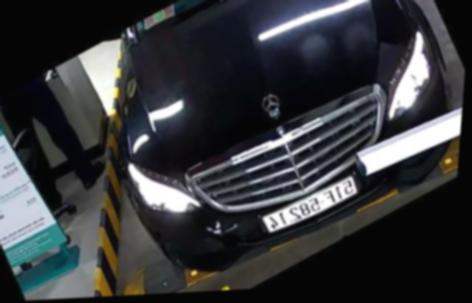License_Plate: (261, 169, 367, 242)
